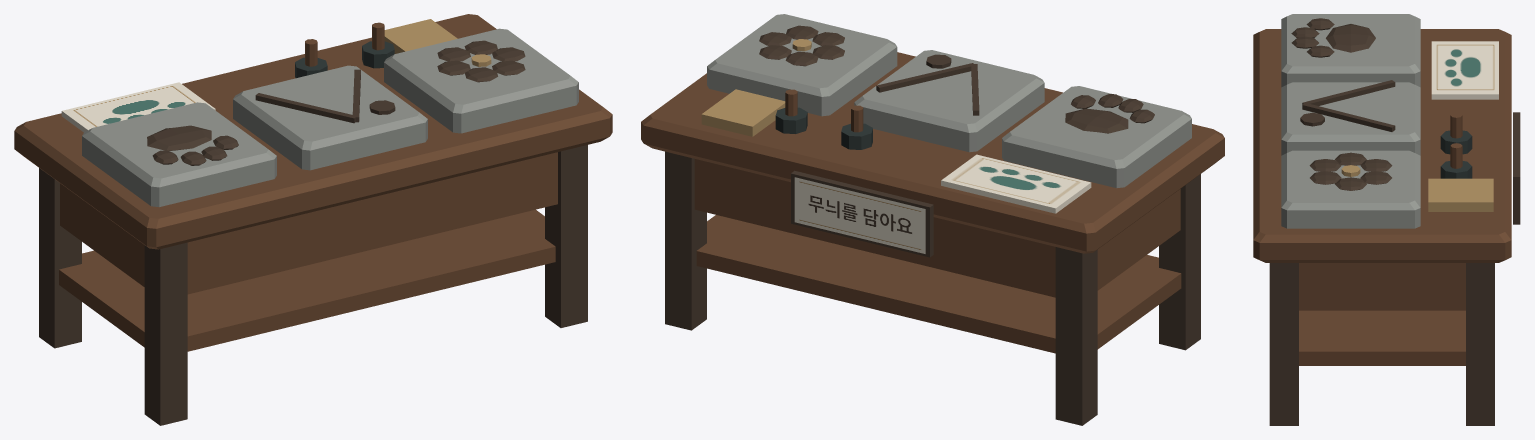
The model's file is F09_Museum_Rubbing_Table.fbx.
3 views of the same model, side by side, from view 1: azimuth 30°, elevation 25°; view 2: azimuth 150°, elevation 25°; view 3: azimuth 270°, elevation 25° (orthographic). The views are drawn at different scales.
Parts seen in each view (by area): view 1: Rubbing_Table, Carved_Plates, Rubbing_Tools, Rubbing_Papers; view 2: Rubbing_Table, Carved_Plates, Front_Label, Rubbing_Papers, Rubbing_Tools; view 3: Rubbing_Table, Carved_Plates, Rubbing_Papers, Rubbing_Tools, Front_Label.
Part boxes in pixels (<box>): Rubbing_Table: <box>14,14,612,425</box>; Carved_Plates: <box>82,28,578,207</box>; Rubbing_Tools: <box>295,19,457,78</box>; Rubbing_Papers: <box>61,82,215,132</box>; Rubbing_Table: <box>641,52,1224,425</box>; Carved_Plates: <box>707,14,1191,188</box>; Front_Label: <box>791,170,933,257</box>; Rubbing_Papers: <box>941,154,1091,213</box>; Rubbing_Tools: <box>701,89,872,149</box>; Rubbing_Table: <box>1253,29,1511,425</box>; Carved_Plates: <box>1281,14,1420,228</box>; Rubbing_Papers: <box>1431,41,1498,99</box>; Rubbing_Tools: <box>1428,112,1493,211</box>; Front_Label: <box>1513,112,1520,224</box>.
Size of the model in its own units: 2.22 by 1.13 by 1.19.
7 materials, 1 textured.
